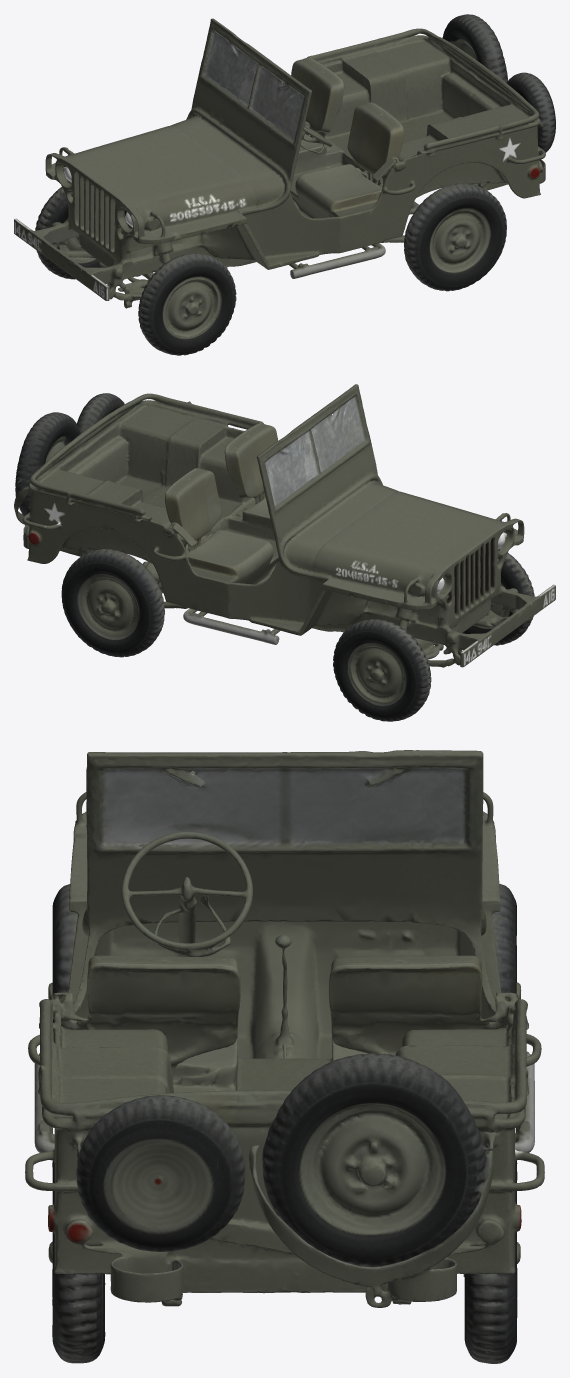
The model's file is SM_PatrolJeep.fbx.
3 renders of one model, top to bottom at view 1: azimuth 30°, elevation 25°; view 2: azimuth 150°, elevation 25°; view 3: azimuth 270°, elevation 25°, orthographic. The views are drawn at different scales.
Parts seen in each view (by area): view 1: Mesh_0; view 2: Mesh_0; view 3: Mesh_0.
Part boxes in pixels (bbox=[...]): Mesh_0: bbox=[14, 14, 555, 355]; Mesh_0: bbox=[14, 384, 555, 721]; Mesh_0: bbox=[25, 750, 544, 1363].
Size of the model in its own units: 190 by 93.22 by 94.86.
1 material, 1 textured.
